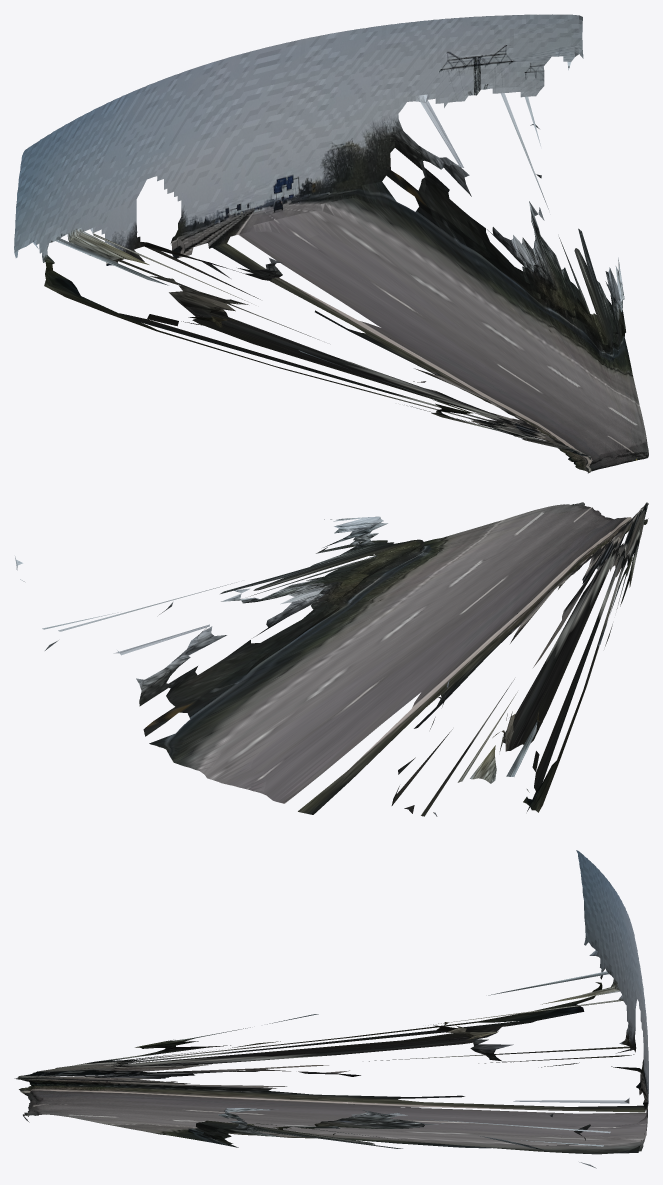
3 views of the same model, one above another, from view 1: azimuth 30°, elevation 25°; view 2: azimuth 150°, elevation 25°; view 3: azimuth 270°, elevation 25° (orthographic). The views are drawn at different scales.
Parts seen in each view (by area): view 1: defaultobject; view 2: defaultobject; view 3: defaultobject.
Boxes of the visible parts, <box> form: defaultobject: <box>14,14,648,473</box>; defaultobject: <box>15,502,648,816</box>; defaultobject: <box>14,850,648,1168</box>.
Bounding box in the file's own units: 40.92 × 13.23 × 45.18.
1 material, 1 textured.
